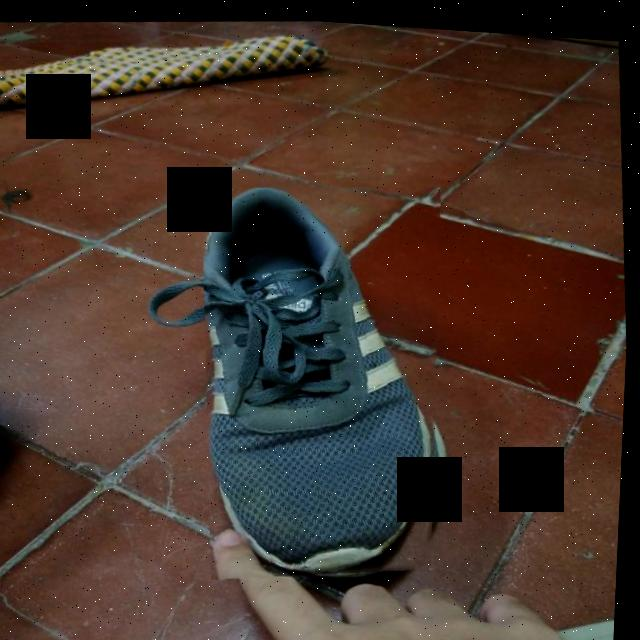shoe: (189, 167, 471, 589)
